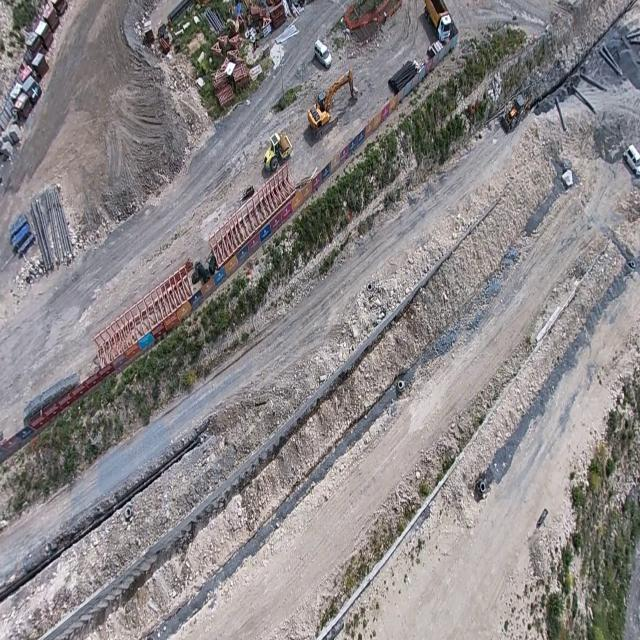vehicle: (310, 73, 354, 130), (264, 132, 292, 173), (424, 0, 450, 40), (504, 93, 526, 135), (311, 39, 332, 68)
